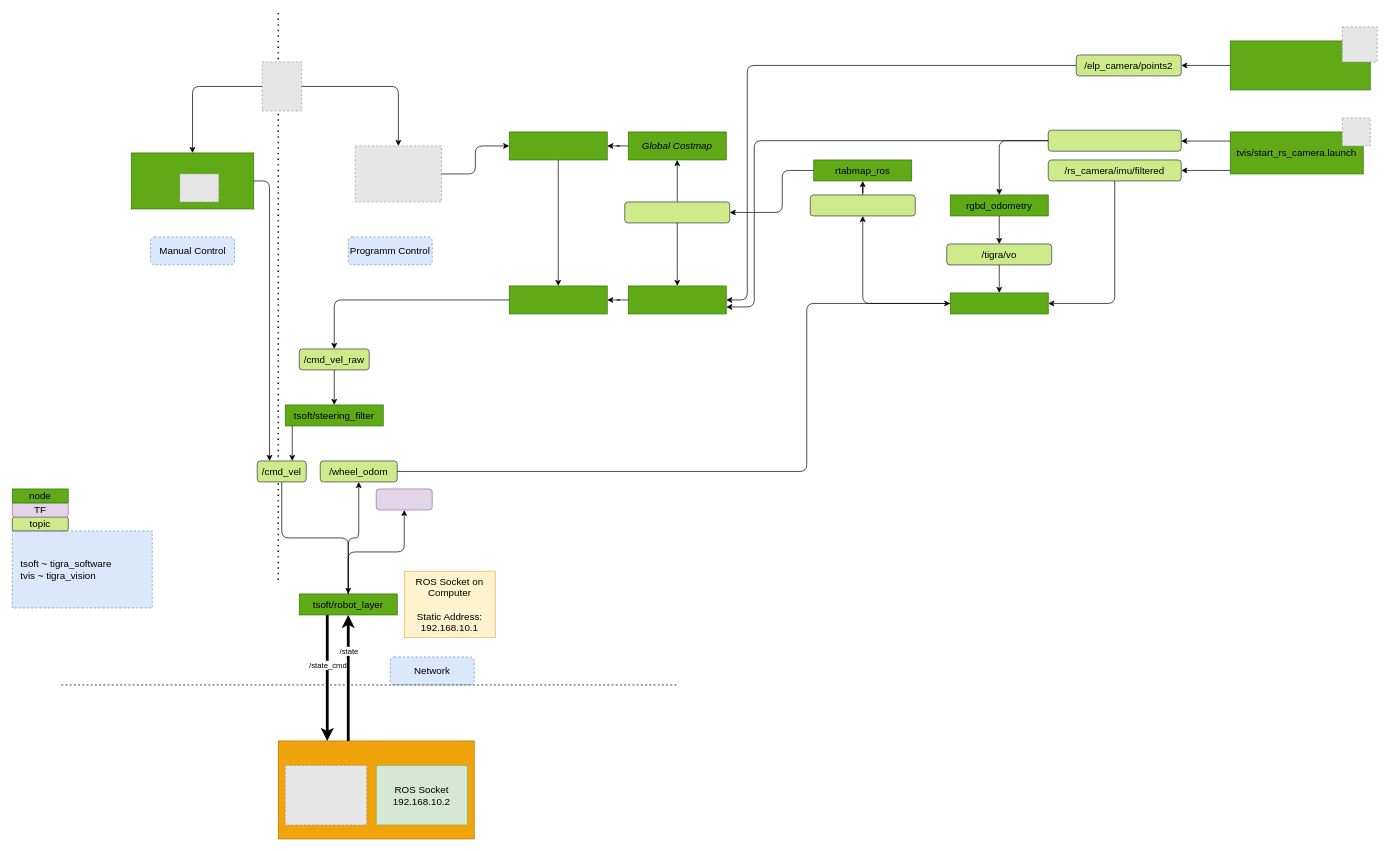
This 1390x851 diagram has some shape labels left out. Grey dashed boxes stand in for pictures. Here are the shapes that lost their labels. From the top down, the box of each, then its label:
(1230, 40, 1370, 90): tvis/start_elp_camera.launch
(509, 131, 607, 160): Global Planner
(1048, 130, 1181, 151): /rs_camera/depth/color/points
(131, 152, 254, 209): tsoft/joy_ctrl
(624, 201, 730, 223): /rtabmap/grid_map
(810, 194, 915, 216): /tigra/odometry/filtered
(509, 285, 607, 314): Local Planner teb_local_planner
(628, 285, 726, 314): Local Costmap
(950, 292, 1048, 314): ekf_localization
(376, 488, 432, 510): /odom
(278, 740, 474, 839): Microcontroller
